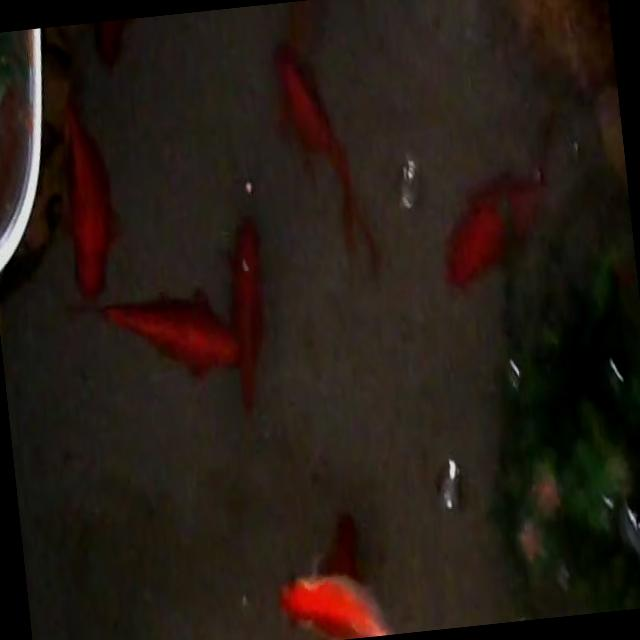fish: (268, 29, 384, 286), (78, 280, 250, 395), (432, 159, 560, 294), (275, 550, 452, 640), (54, 90, 125, 301), (220, 207, 278, 414), (302, 503, 367, 640), (275, 0, 333, 66), (88, 18, 140, 72)
